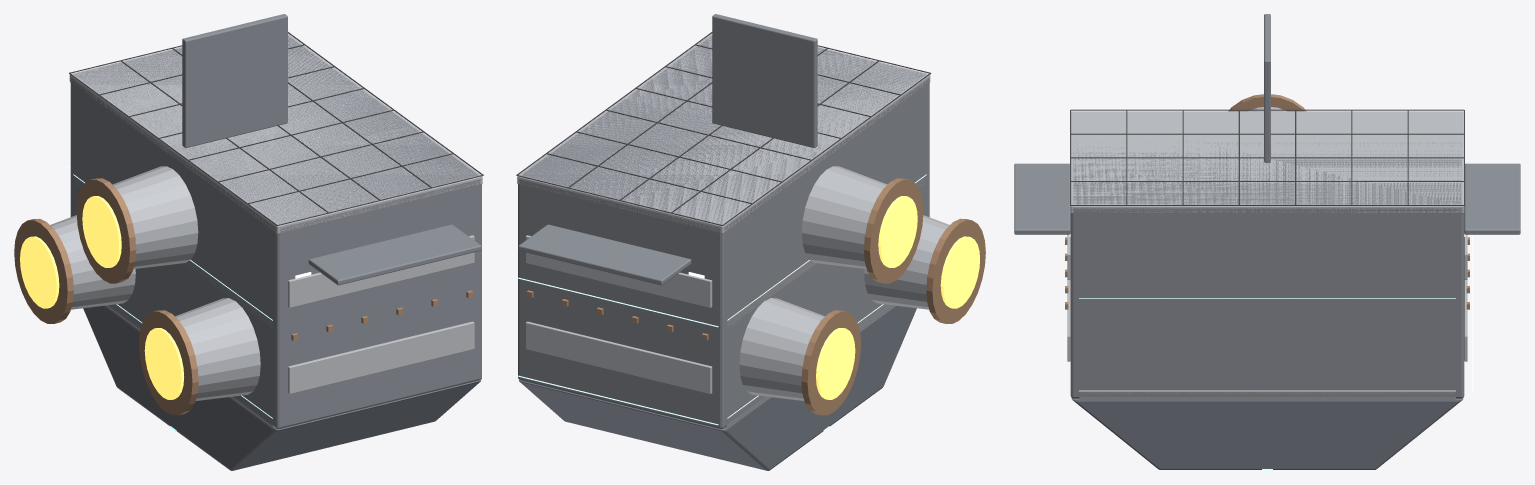
File: ship_stern_7x4.glb
3 views of the same model, side by side, from view 1: azimuth 30°, elevation 25°; view 2: azimuth 150°, elevation 25°; view 3: azimuth 270°, elevation 25° (orthographic). The views are drawn at different scales.
Visible parts, largest first — view 1: ext_hull, ext_deck_top, ext_hull_belly, ext_fin_top, ext_armor_plates, ext_engine0, ext_engine2, ext_fins, ext_deck_grid, ext_engine1, ext_engine_ring1, ext_engine_ring2 (+5 smaller); view 2: ext_hull, ext_deck_top, ext_hull_belly, ext_fin_top, ext_armor_plates, ext_engine2, ext_engine1, ext_fins, ext_deck_grid, ext_engine0, ext_engine_ring2, ext_engine_ring0 (+6 smaller); view 3: ext_hull, ext_deck_top, ext_hull_belly, ext_fins, ext_deck_grid, int_deck_lower, ext_fin_top, ext_armor_plates, int_grid_14, ext_engine_ring2.
Boxes of the visible parts, x1,y1,x2,y2 form: ext_hull: [70, 36, 481, 428]; ext_deck_top: [69, 34, 482, 233]; ext_hull_belly: [83, 305, 480, 470]; ext_fin_top: [182, 14, 287, 147]; ext_armor_plates: [288, 235, 474, 394]; ext_engine0: [175, 298, 260, 400]; ext_engine2: [112, 166, 198, 269]; ext_fins: [308, 224, 481, 285]; ext_deck_grid: [69, 32, 483, 225]; ext_engine1: [50, 215, 135, 309]; ext_engine_ring1: [14, 218, 73, 323]; ext_engine_ring2: [76, 178, 136, 283]; ext_hull: [518, 36, 929, 428]; ext_deck_top: [517, 34, 930, 233]; ext_hull_belly: [519, 305, 916, 470]; ext_fin_top: [712, 14, 817, 147]; ext_armor_plates: [525, 235, 712, 394]; ext_engine2: [802, 166, 887, 269]; ext_engine1: [739, 298, 824, 400]; ext_fins: [518, 224, 691, 285]; ext_deck_grid: [516, 32, 931, 225]; ext_engine0: [864, 215, 949, 309]; ext_engine_ring2: [864, 178, 923, 283]; ext_engine_ring0: [926, 218, 985, 323]; ext_hull: [1070, 140, 1464, 398]; ext_deck_top: [1070, 111, 1464, 213]; ext_hull_belly: [1071, 398, 1463, 469]; ext_fins: [1014, 163, 1520, 234]; ext_deck_grid: [1070, 109, 1464, 205]; int_deck_lower: [1079, 392, 1455, 399]; ext_fin_top: [1264, 14, 1270, 162]; ext_armor_plates: [1067, 234, 1467, 361]; int_grid_14: [1079, 298, 1473, 391]; ext_engine_ring2: [1228, 94, 1306, 111].
Bounding box in the file's own units: 5.42 × 7.2 × 9.
